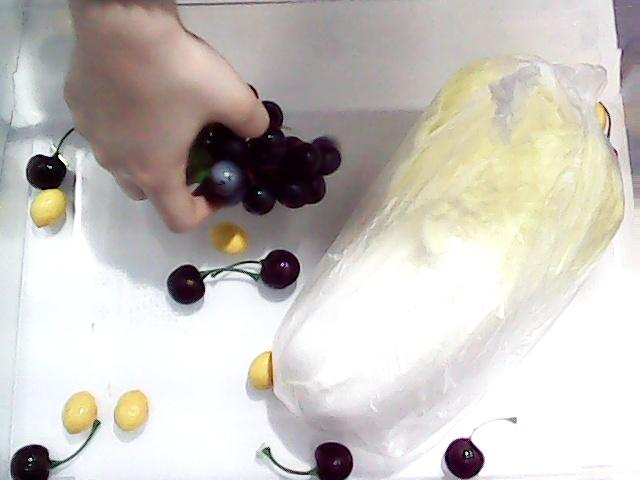grape: (185, 106, 352, 210)
napa cabbage: (266, 61, 628, 452)
